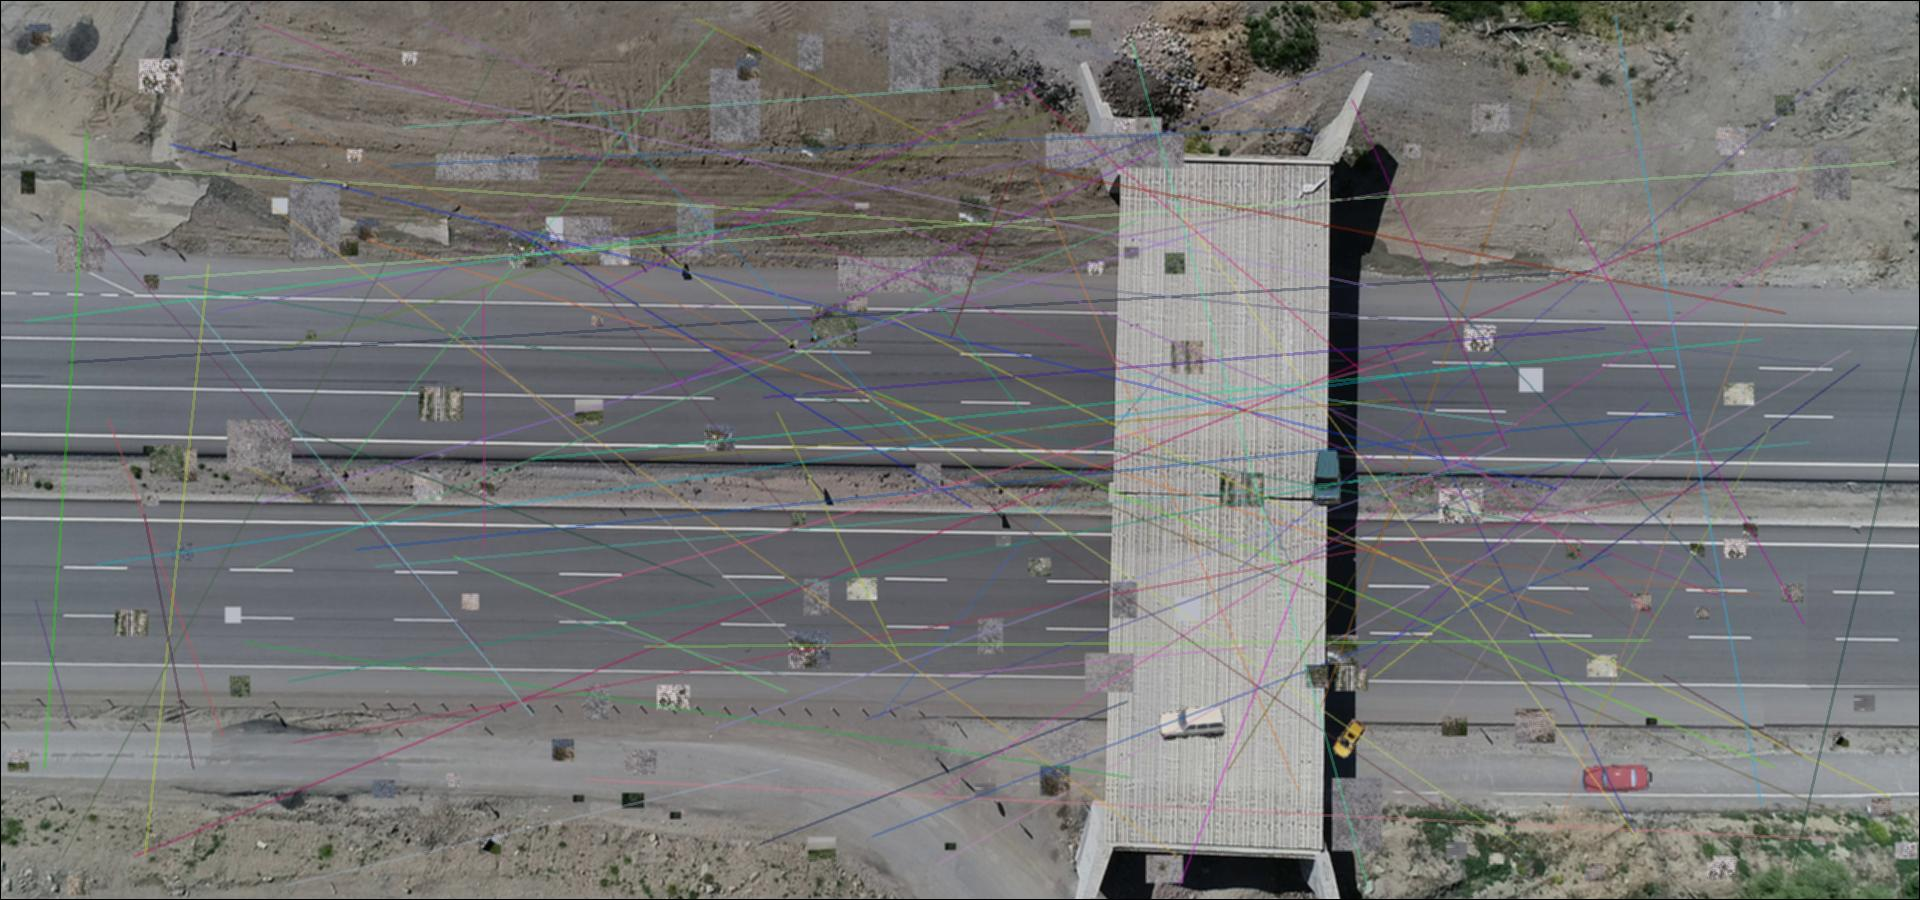arac: (1158, 707, 1227, 741), (1307, 449, 1344, 507), (1582, 765, 1656, 793), (1332, 718, 1368, 758)
